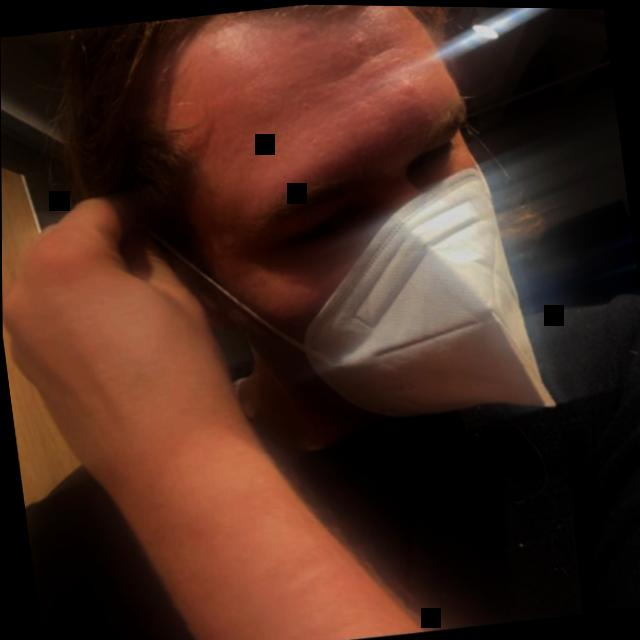Mask: (81, 1, 570, 434)
